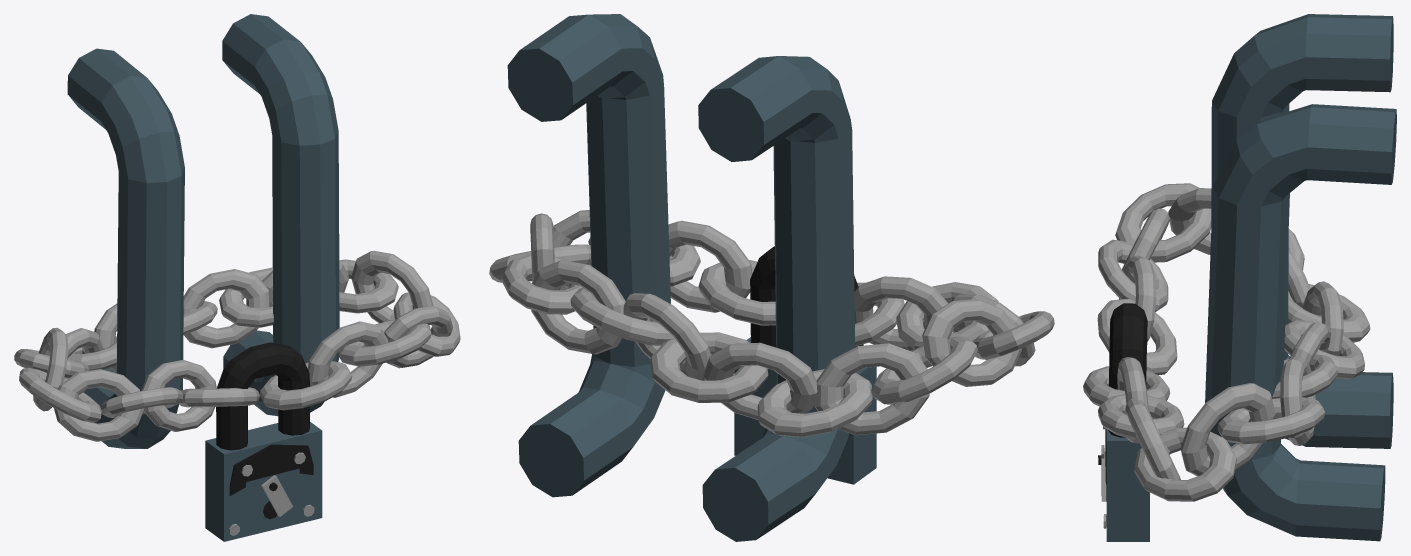
The model's file is Schloss.fbx.
The picture shows the model from 3 angles, left to right: view 1: azimuth 30°, elevation 25°; view 2: azimuth 150°, elevation 25°; view 3: azimuth 270°, elevation 25°; orthographic projection. The views are drawn at different scales.
Visible parts, largest first — view 1: group_459933737, group_1678212412, mesh_1657380419, group_924005158, mesh_1106613638, mesh_118635609, mesh_927964691, mesh_953077873, mesh_1996120708, mesh_241192394, mesh_1547681570, mesh_1651535453 (+14 smaller); view 2: group_1678212412, group_459933737, mesh_758700231, mesh_982815288, mesh_580337429, mesh_1532668441, mesh_1139736582, mesh_608172639, mesh_953077873, mesh_1657380419, mesh_1647870137, mesh_1106613638 (+13 smaller); view 3: group_1678212412, group_459933737, mesh_1657380419, mesh_1996120708, mesh_1000724549, mesh_20444991, mesh_600036816, group_924005158, mesh_1090507551, mesh_1651535453, mesh_337541003, mesh_1379251042 (+12 smaller).
Boxes of the visible parts, x1=… form: group_459933737: x1=67, y1=48, x2=184, y2=448; group_1678212412: x1=222, y1=14, x2=339, y2=416; mesh_1657380419: x1=205, y1=422, x2=322, y2=541; group_924005158: x1=216, y1=342, x2=309, y2=450; mesh_1106613638: x1=183, y1=269, x2=269, y2=348; mesh_118635609: x1=54, y1=369, x2=144, y2=441; mesh_927964691: x1=141, y1=359, x2=216, y2=431; mesh_953077873: x1=307, y1=321, x2=388, y2=397; mesh_1996120708: x1=351, y1=250, x2=433, y2=323; mesh_241192394: x1=259, y1=361, x2=352, y2=410; mesh_1547681570: x1=229, y1=444, x2=313, y2=495; mesh_1651535453: x1=338, y1=319, x2=431, y2=366; group_1678212412: x1=507, y1=14, x2=670, y2=497; group_459933737: x1=698, y1=56, x2=854, y2=541; mesh_758700231: x1=814, y1=343, x2=929, y2=435; mesh_982815288: x1=531, y1=260, x2=625, y2=354; mesh_580337429: x1=703, y1=342, x2=817, y2=419; mesh_1532668441: x1=650, y1=332, x2=768, y2=402; mesh_1139736582: x1=922, y1=299, x2=1021, y2=386; mesh_608172639: x1=757, y1=369, x2=872, y2=437; mesh_953077873: x1=668, y1=220, x2=752, y2=312; mesh_1657380419: x1=734, y1=337, x2=876, y2=484; mesh_1647870137: x1=871, y1=336, x2=977, y2=404; mesh_1106613638: x1=623, y1=293, x2=711, y2=380; group_1678212412: x1=1205, y1=104, x2=1396, y2=541; group_459933737: x1=1211, y1=14, x2=1393, y2=448; mesh_1657380419: x1=1106, y1=429, x2=1149, y2=541; mesh_1996120708: x1=1180, y1=383, x2=1275, y2=476; mesh_1000724549: x1=1134, y1=427, x2=1236, y2=501; mesh_20444991: x1=1115, y1=183, x2=1211, y2=262; mesh_600036816: x1=1217, y1=397, x2=1325, y2=444; group_924005158: x1=1108, y1=303, x2=1147, y2=437; mesh_1090507551: x1=1098, y1=239, x2=1168, y2=311; mesh_1651535453: x1=1098, y1=394, x2=1184, y2=440; mesh_337541003: x1=1097, y1=298, x2=1177, y2=375; mesh_1379251042: x1=1125, y1=398, x2=1180, y2=479.
Bounding box in the file's own units: 121 × 106 × 64.87.
